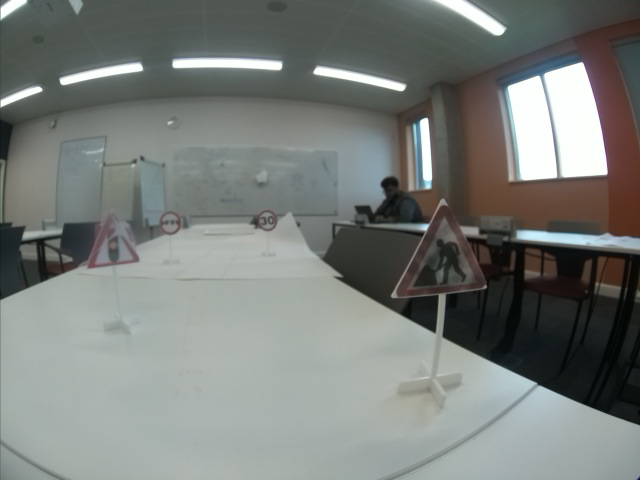30mph: (258, 209, 277, 232)
6ft6: (160, 211, 181, 235)
Roadworks: (393, 203, 489, 299)
Traffic lights: (86, 213, 140, 269)
